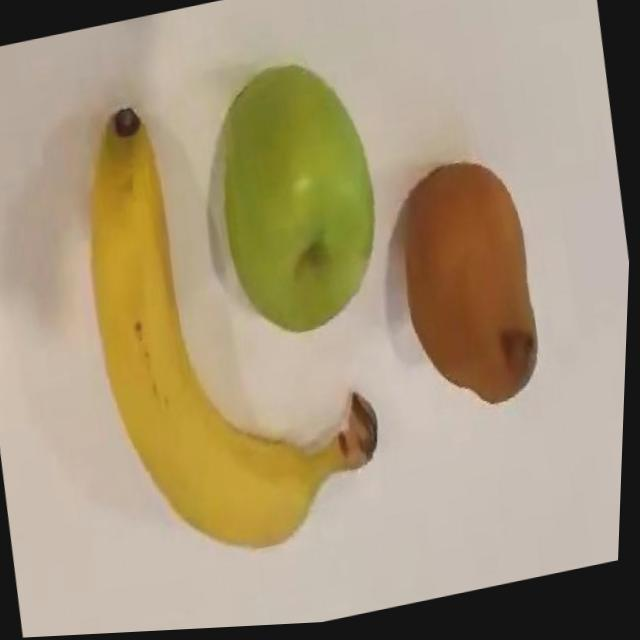Apple: (190, 52, 401, 353), (387, 155, 557, 427)
Banana: (60, 65, 409, 584)
